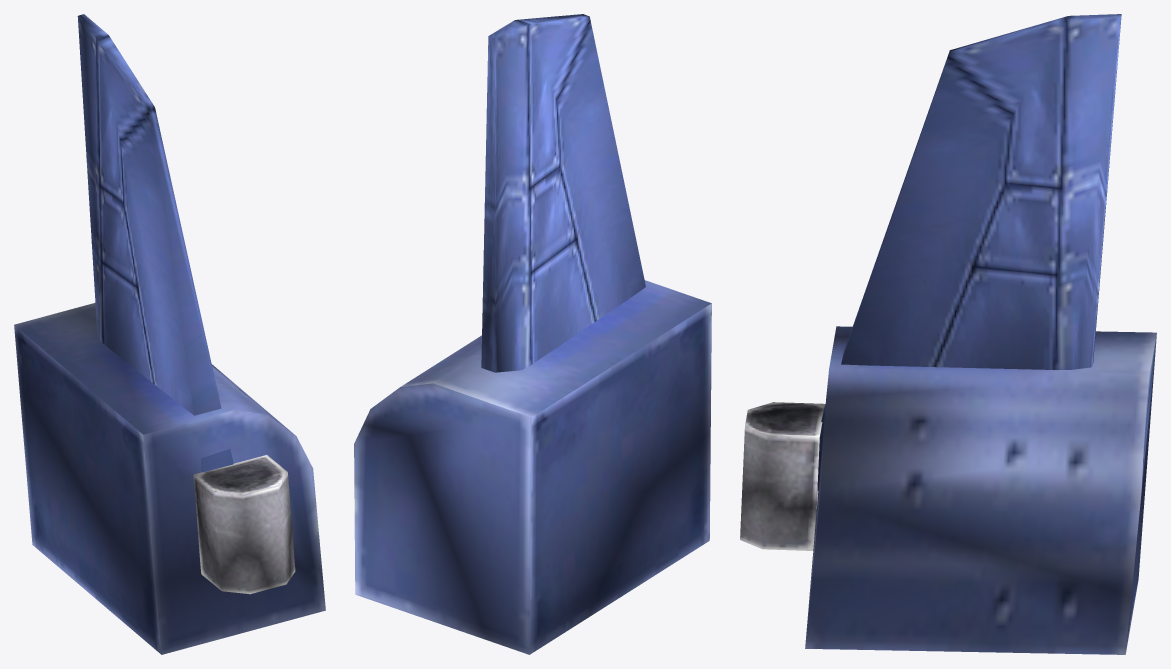
File: Robot01.LeftForeArm2.fbx
3 renders of one model, left to right at view 1: azimuth 30°, elevation 25°; view 2: azimuth 150°, elevation 25°; view 3: azimuth 270°, elevation 25°, orthographic. The views are drawn at different scales.
Parts seen in each view (by area): view 1: Robot.011; view 2: Robot.011; view 3: Robot.011.
Boxes of the visible parts, left/top/right/bottom form: Robot.011: left=14, top=14, right=325, bottom=654; Robot.011: left=354, top=14, right=711, bottom=654; Robot.011: left=740, top=14, right=1156, bottom=654.
Bounding box in the file's own units: 24.06 × 66.26 × 42.54.
